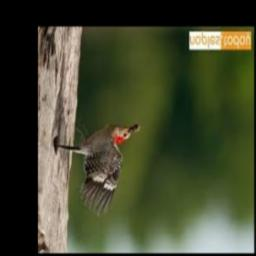Woodpecker: (57, 122, 133, 218)
